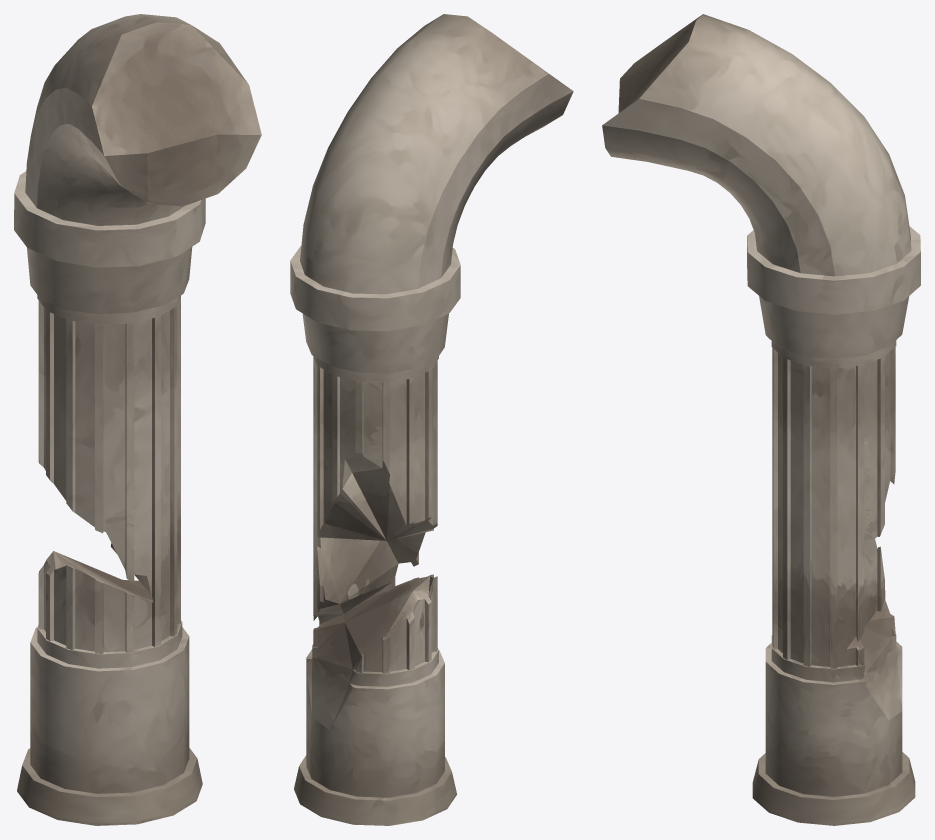
Rendered from kolumna_podwojna_z.obj.
3 views of the same model, side by side, from view 1: azimuth 30°, elevation 25°; view 2: azimuth 150°, elevation 25°; view 3: azimuth 270°, elevation 25° (orthographic). The views are drawn at different scales.
Parts seen in each view (by area): view 1: Cube.007; view 2: Cube.007; view 3: Cube.007.
Part boxes in pixels (x1,y1,x2,y2): Cube.007: [14, 14, 261, 825]; Cube.007: [290, 14, 573, 825]; Cube.007: [602, 14, 920, 825].
Size of the model in its own units: 7.77 by 31.07 by 11.87.
Materials: 1 (1 with a texture image).
